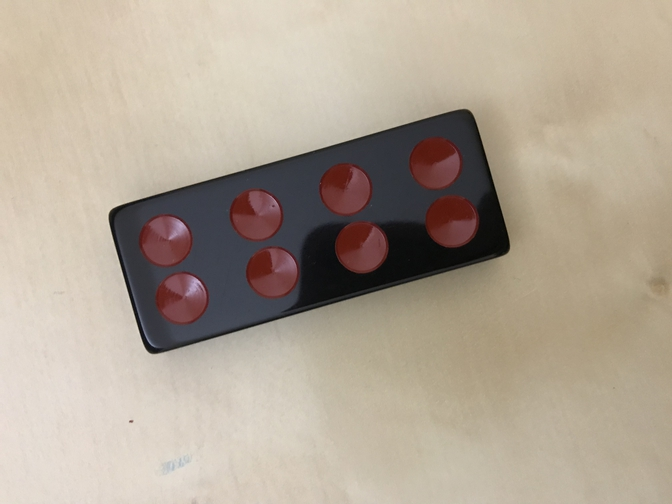man: (109, 108, 510, 354)
